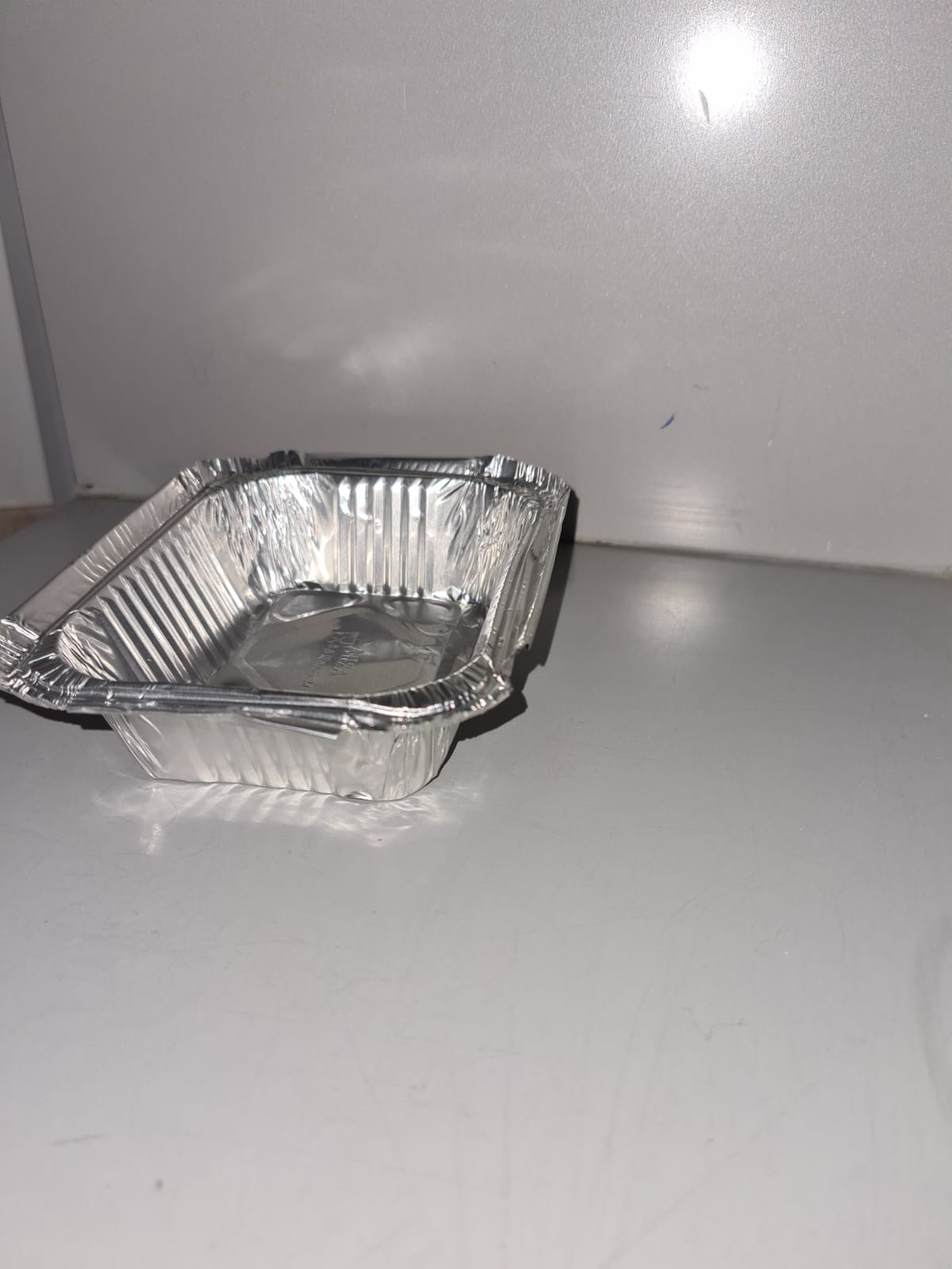Metal: (48, 424, 574, 828)
